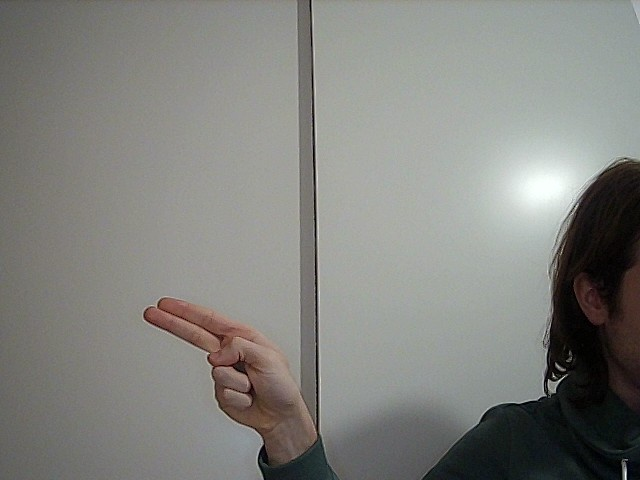h: (134, 287, 312, 423)
